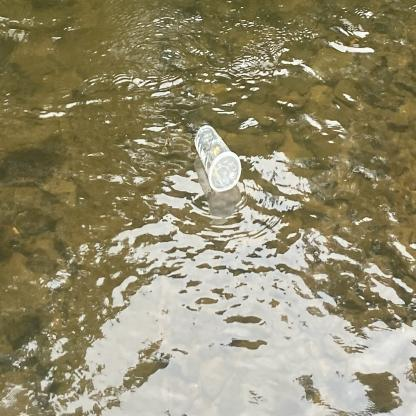trash: (191, 120, 244, 196)
